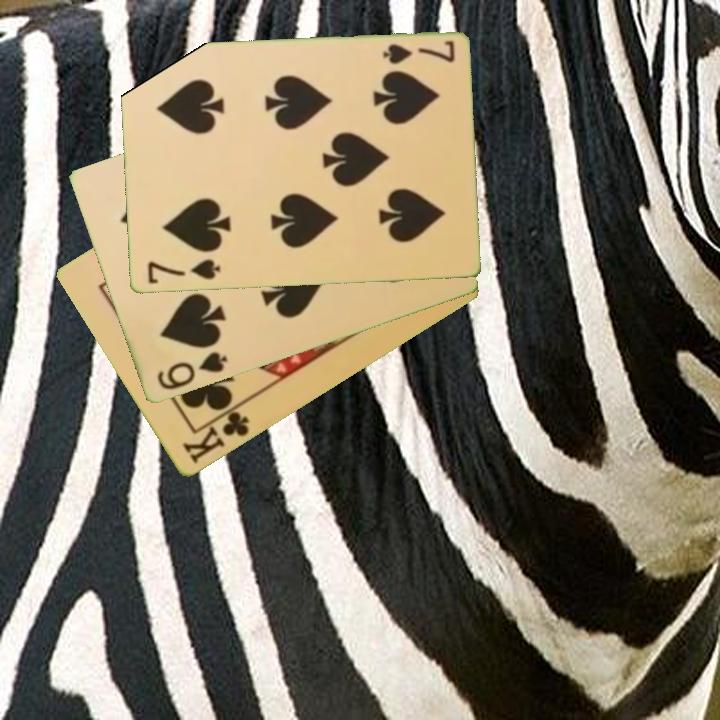6s: (153, 348, 230, 394)
7s: (143, 256, 223, 287), (378, 37, 457, 68)
Kc: (178, 401, 252, 468)
